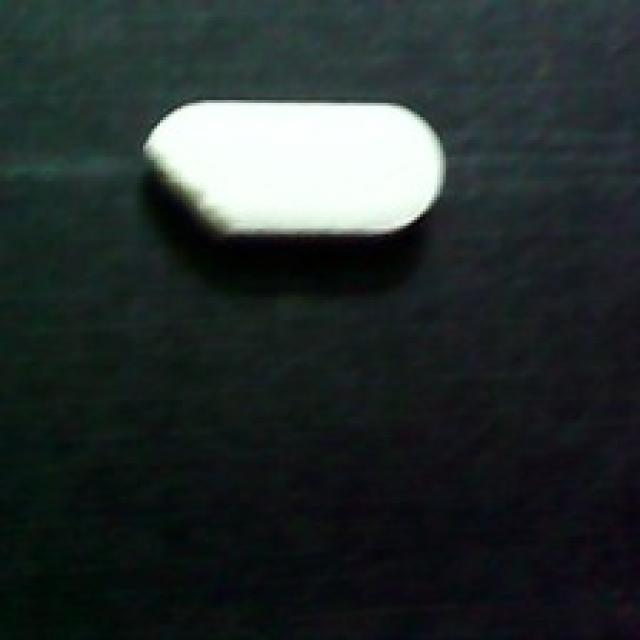defected: (134, 89, 466, 246)
